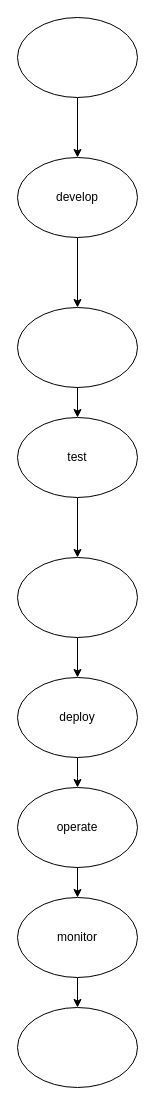
The diagram is 155 pixels wide and 1105 high, and some of its shapes have lost their labels. Each missing label, with the box of its shape:
build: (16, 306, 138, 388)
plan: (16, 16, 138, 98)
realse: (16, 556, 138, 638)
